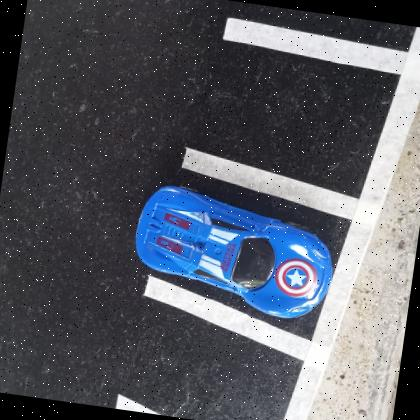Car: (135, 183, 335, 319)
